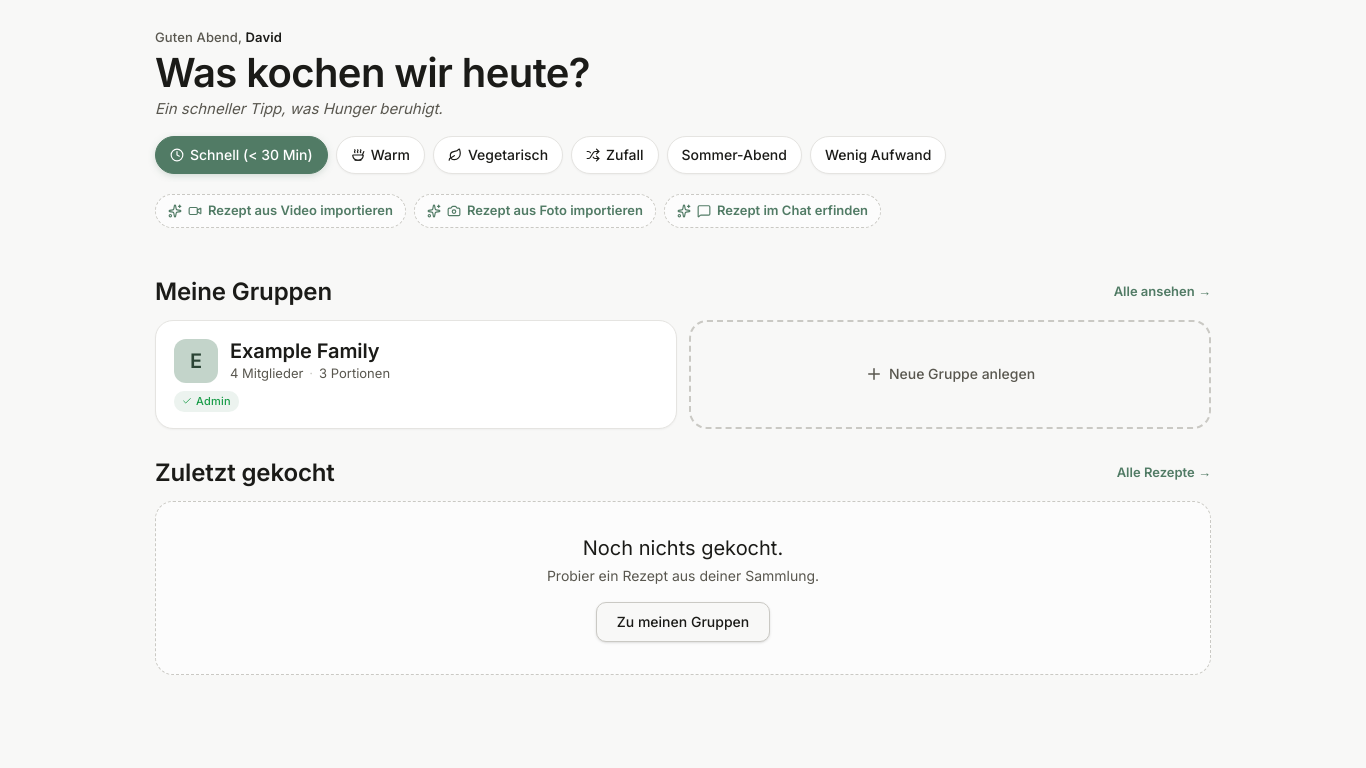
Scenario: <HomePage /> › renders the "+ Neue Gruppe anlegen" card and opens the create dialog when clicked
Click the button "Neue Gruppe anlegen".
click(950, 374)  # box left=689, top=320, right=1211, bottom=428
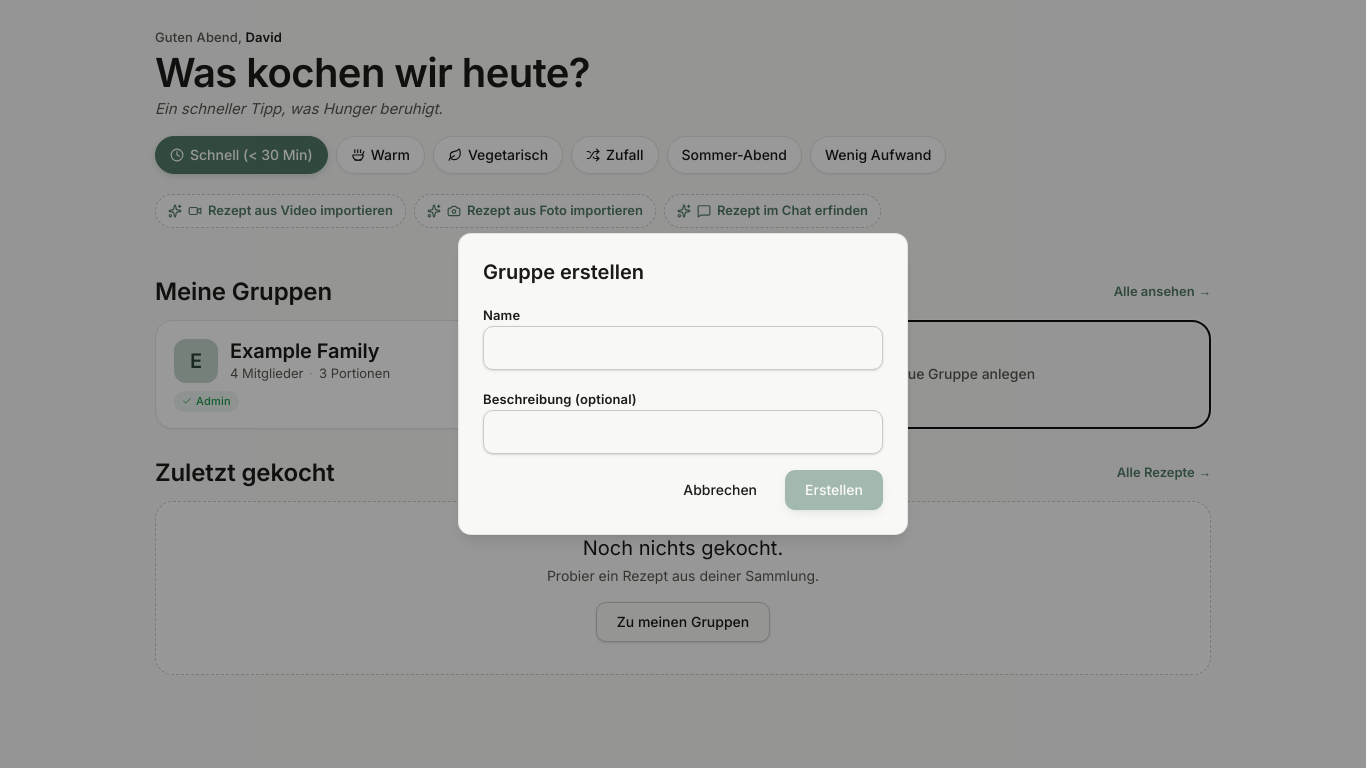
Now the dialog is shown
Now the heading "Gruppe erstellen" is shown, box left=483, top=260, right=644, bottom=284
